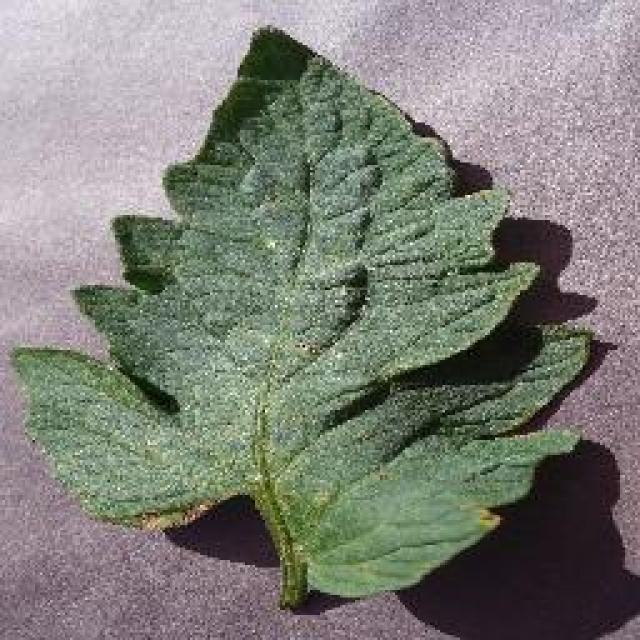Tom_Target_Spot: (222, 267, 350, 433), (94, 468, 220, 538)
